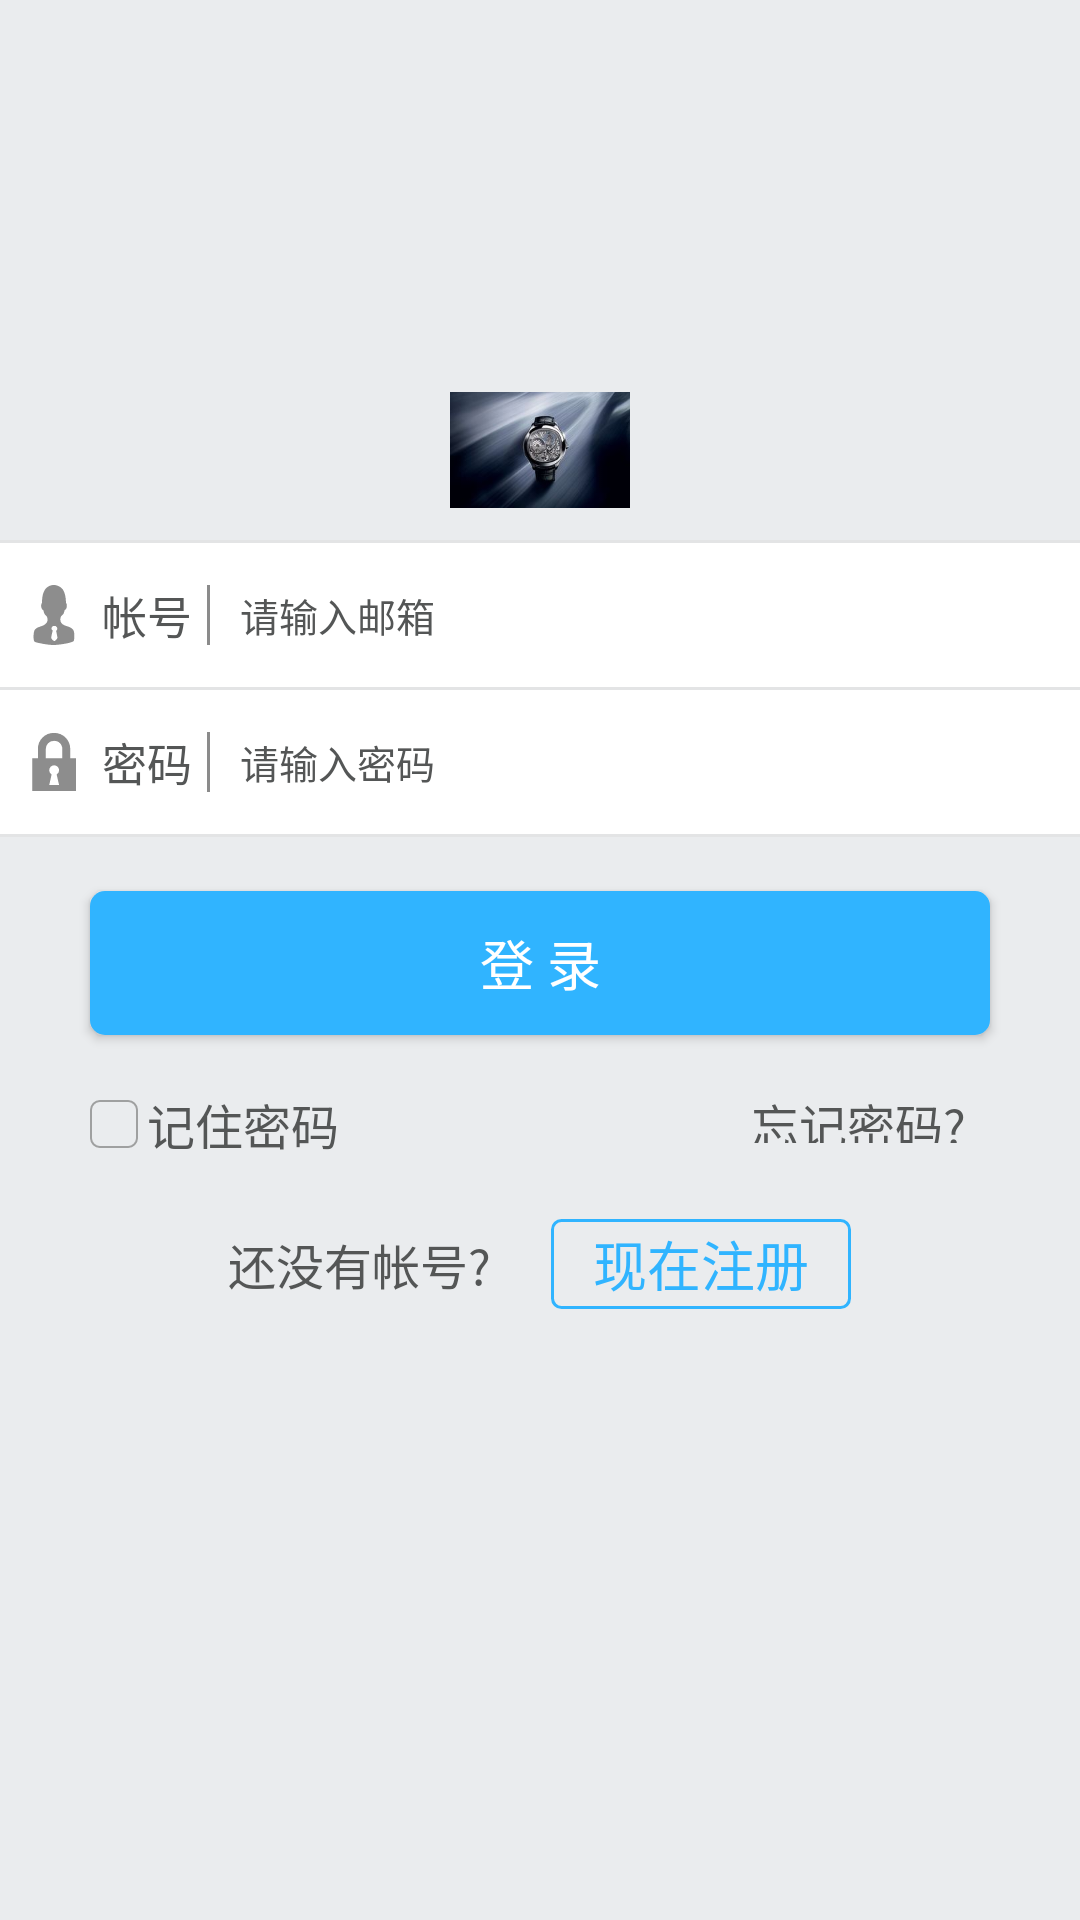

Point at icon controls on the screen. Image size 1080px×1920px, points as (x=x, y=y).
heard picture: (x=54, y=615)
watch: (x=540, y=450)
